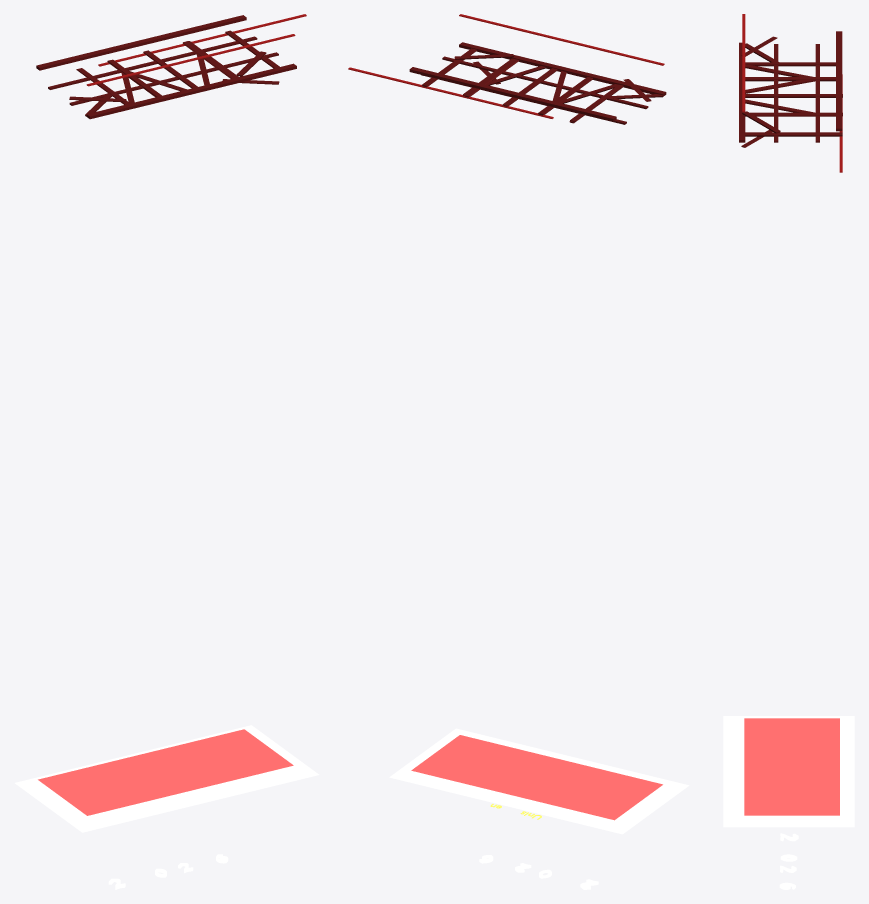
Rendered from carte_de_voeu.glb.
3 renders of one model, left to right at view 1: azimuth 30°, elevation 25°; view 2: azimuth 150°, elevation 25°; view 3: azimuth 270°, elevation 25°, orthographic. The views are drawn at different scales.
Parts seen in each view (by area): view 1: Plane.020, Plane.022, Plane.002, Plane.003, Plane.005, Plane.001, Plane.006; view 2: Plane.020, Plane.022, Plane.003, Plane.002, Plane.006; view 3: Plane.020, Plane.022, Plane.003, Plane.002, Plane.011, Plane.005, Plane.008, Plane.009, Plane.007, Plane.006, Plane.001, Plane.004 (+1 smaller).
Boxes of the visible parts, x1,y1,x2,y2 form: Plane.020: (38, 729, 293, 815); Plane.022: (15, 725, 319, 832); Plane.002: (86, 63, 296, 119); Plane.003: (36, 15, 246, 70); Plane.005: (48, 36, 257, 89); Plane.001: (86, 34, 295, 86); Plane.006: (69, 52, 278, 105); Plane.020: (411, 735, 662, 820); Plane.022: (389, 728, 689, 834); Plane.003: (409, 67, 616, 121); Plane.002: (459, 42, 666, 96); Plane.006: (442, 56, 648, 109); Plane.020: (744, 718, 839, 815); Plane.022: (723, 716, 854, 827); Plane.003: (836, 31, 842, 131); Plane.002: (739, 42, 745, 142); Plane.011: (745, 132, 842, 136); Plane.005: (815, 44, 819, 142); Plane.008: (745, 62, 835, 66); Plane.009: (745, 112, 842, 116); Plane.007: (745, 77, 835, 81); Plane.006: (774, 44, 778, 142); Plane.001: (742, 14, 745, 112); Plane.004: (745, 94, 842, 97).
Size of the model in its own units: 49.66 by 135 by 20.02.
